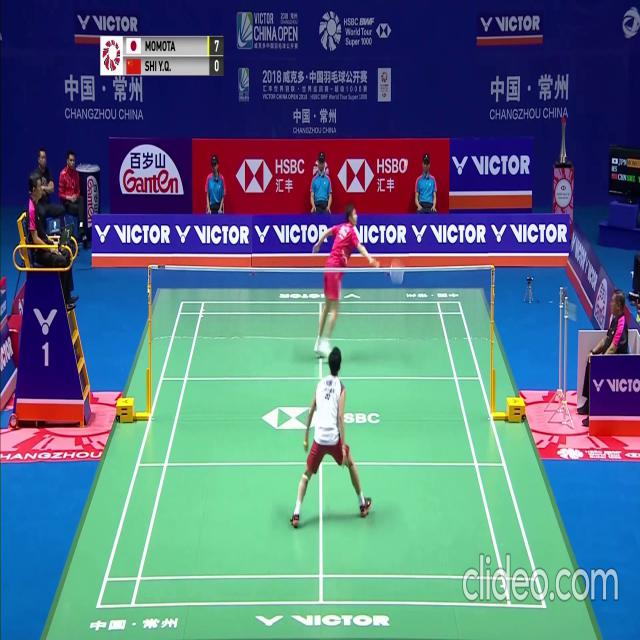Shuttlecock: (404, 159, 409, 167)
